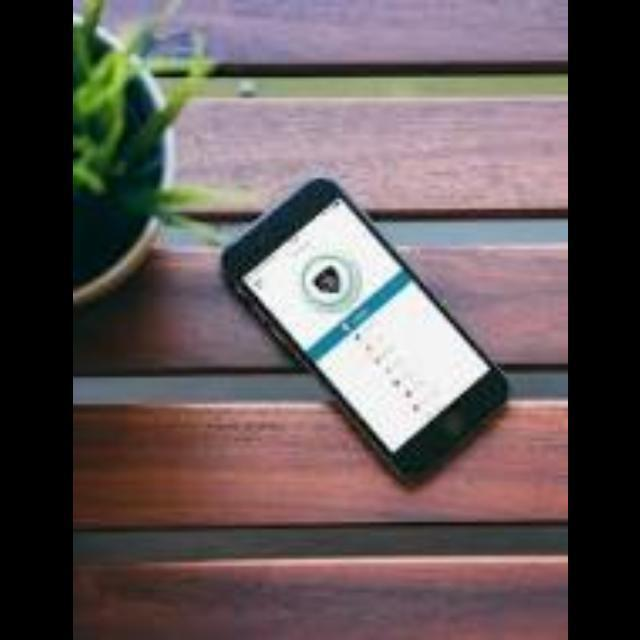phone: (177, 169, 533, 514)
